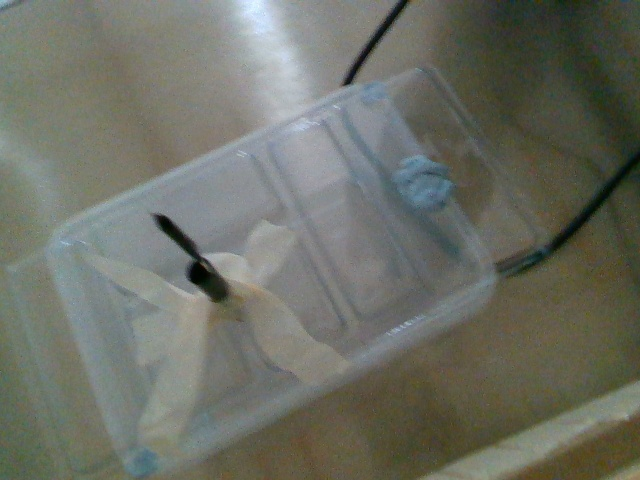test_strip: (150, 212, 208, 267)
